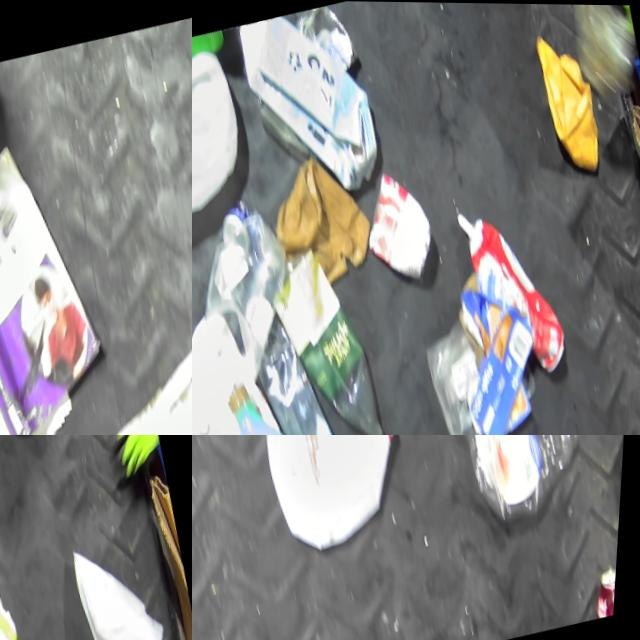can: (353, 162, 448, 289), (215, 194, 262, 257), (590, 561, 623, 616)
milk_jug: (227, 0, 394, 208), (241, 435, 427, 558), (192, 43, 261, 233), (96, 332, 192, 435)
